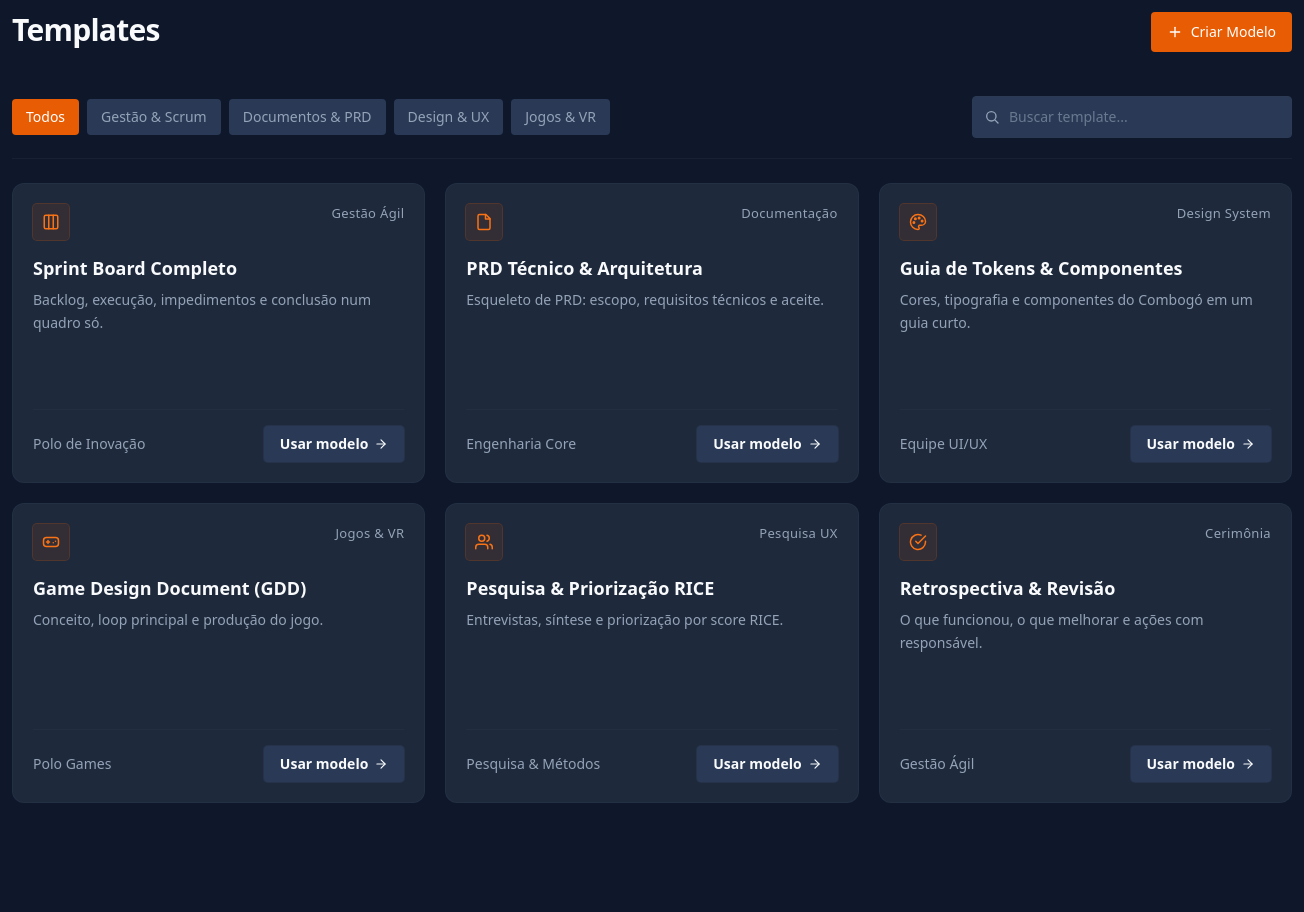
Templates (janela) › busca template por texto
Type "GDD" into the search field labelled "Buscar template". click: (1132, 117)
box: [972,96,1292,138]
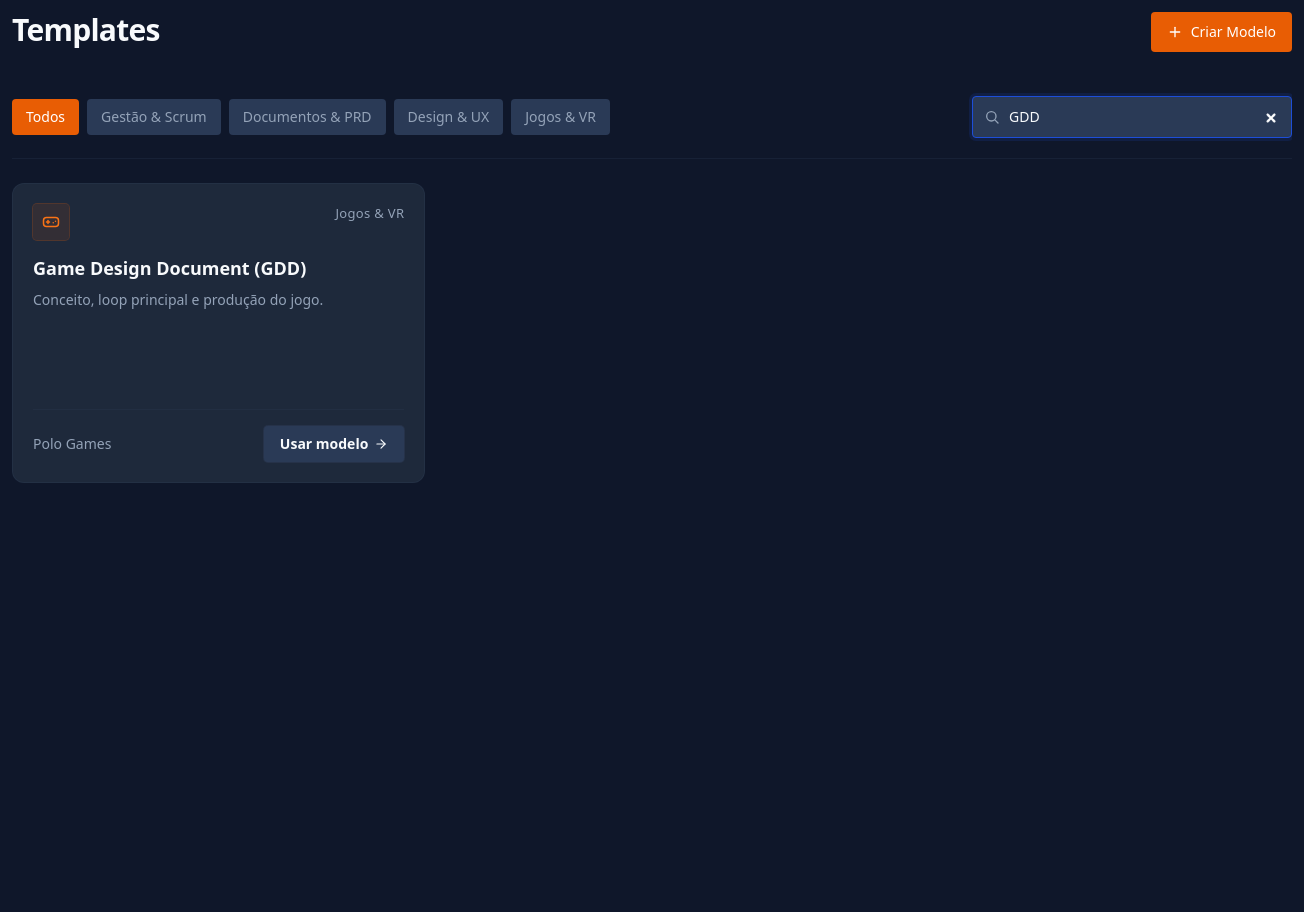
Expected: the heading "Game Design Document (GDD)" is shown, [33,256,306,280]
Expected: the number of buttons "Usar modelo" is 1, [264,426,404,462]
